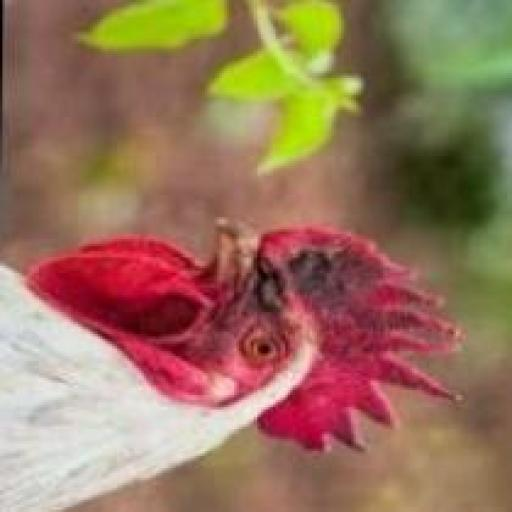disease: (239, 238, 377, 319)
